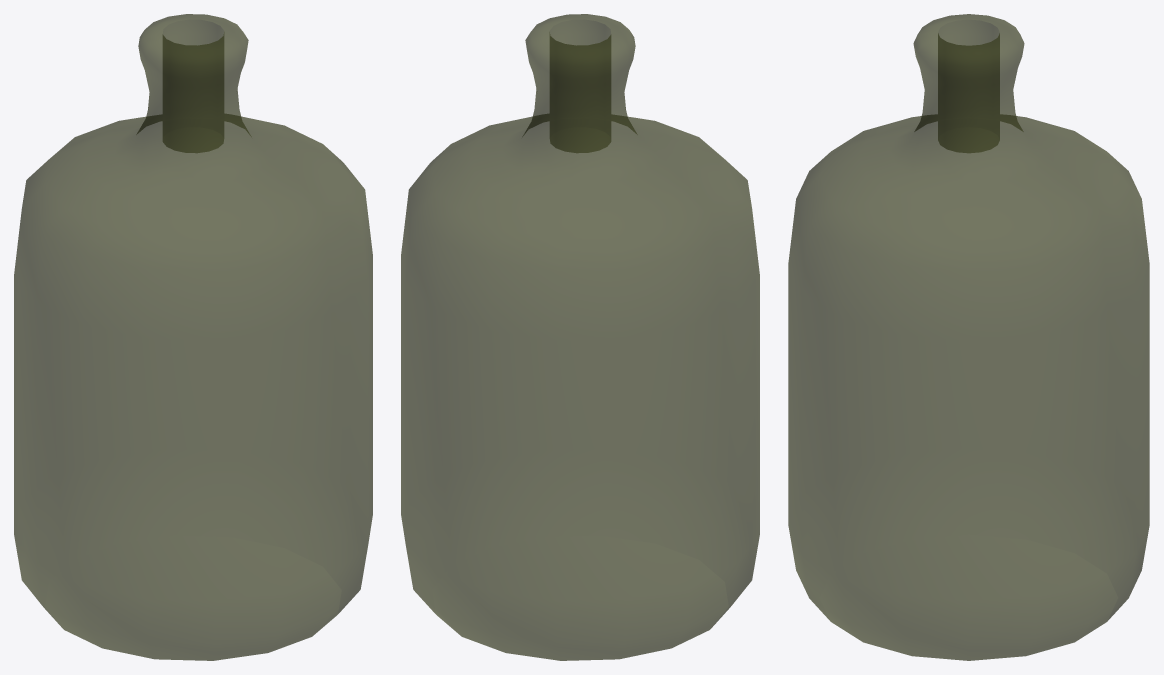
The model's file is botella2.fbx.
The picture shows the model from 3 angles, left to right: view 1: azimuth 30°, elevation 25°; view 2: azimuth 150°, elevation 25°; view 3: azimuth 270°, elevation 25°; orthographic projection.
Parts seen in each view (by area): view 1: BotellaCristal3.001; view 2: BotellaCristal3.001; view 3: BotellaCristal3.001.
Part boxes in pixels (x1=…): BotellaCristal3.001: x1=14, y1=14, x2=372, y2=660; BotellaCristal3.001: x1=401, y1=14, x2=759, y2=660; BotellaCristal3.001: x1=788, y1=14, x2=1149, y2=660.
Size of the model in its own units: 33.11 by 58.04 by 33.11.
